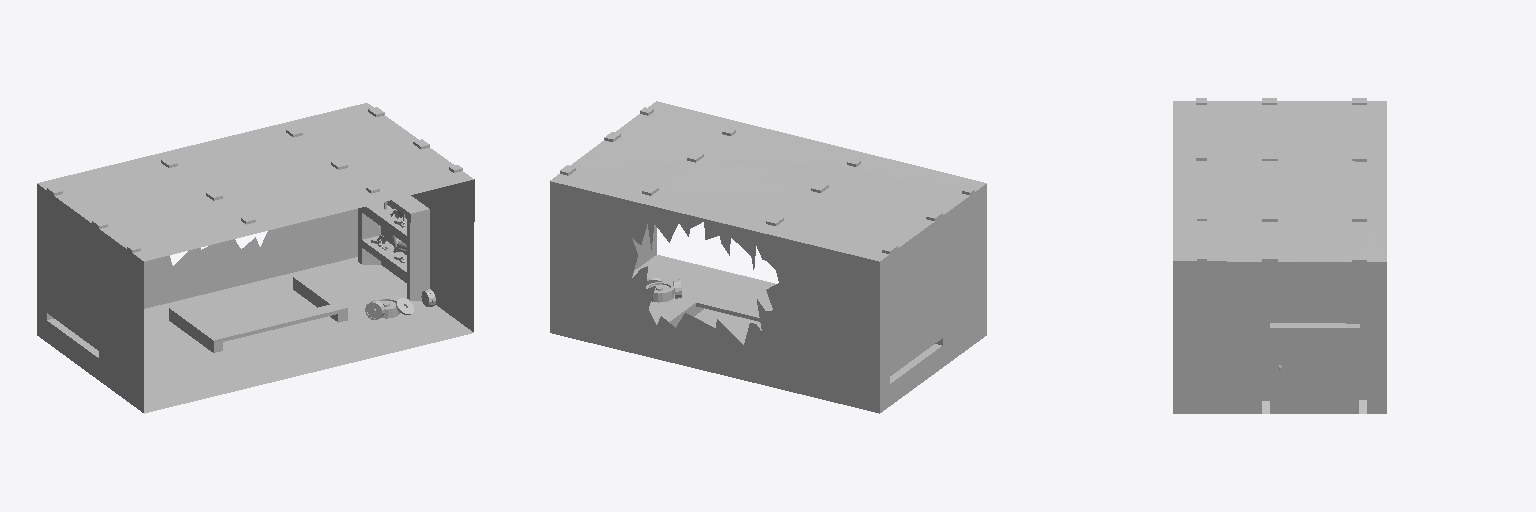
Rendered from Menu Scene.obj.
The picture shows the model from 3 angles: view 1: azimuth 30°, elevation 25°; view 2: azimuth 150°, elevation 25°; view 3: azimuth 270°, elevation 25°; orthographic projection.
Visible parts, largest first — view 1: Cube; view 2: Cube; view 3: Cube.
Boxes of the visible parts, x1,y1,x2,y2 form: Cube: [37, 103, 474, 413]; Cube: [550, 101, 986, 413]; Cube: [1173, 98, 1386, 413].
Size of the model in its own units: 10.88 by 4.9 by 6.1.